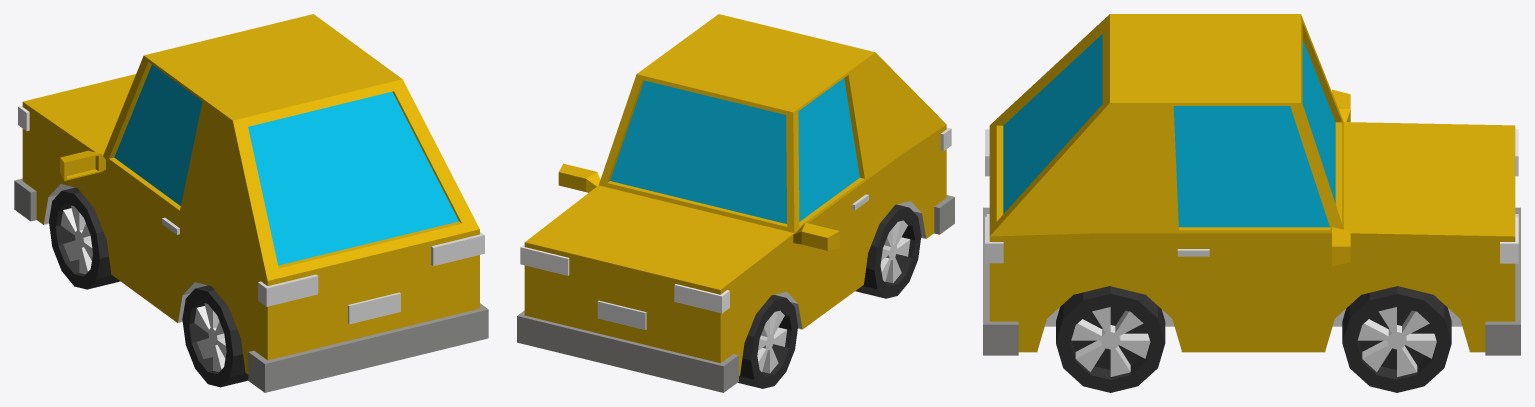
File: carros amarelo.fbx
The picture shows the model from 3 angles, left to right: view 1: azimuth 30°, elevation 25°; view 2: azimuth 150°, elevation 25°; view 3: azimuth 270°, elevation 25°; orthographic projection. The views are drawn at different scales.
Visible parts, largest first — view 1: carro.001, lataria t.001, Cilindro.011, Cilindro.003, lantern 1 T.001, lanterna 2 t.001, placa 2.001, lanterna 2 f.005, lataria f.001; view 2: carro.001, lataria f.001, Cilindro.011, Cilindro.003, lanterna 2 f.001, lanterna 2 f.005, placa 1.001, lataria t.001; view 3: carro.001, Cilindro.003, Cilindro.011, lataria t.001, lataria f.001, lanterna 2 f.005, lanterna 2 f.001, lanterna 2 t.001.
Boxes of the visible parts, x1,y1,x2,y2 form: carro.001: [22, 14, 479, 374]; lataria t.001: [248, 303, 488, 392]; Cilindro.011: [182, 285, 248, 387]; Cilindro.003: [49, 187, 120, 289]; lantern 1 T.001: [258, 274, 318, 306]; lanterna 2 t.001: [431, 232, 484, 266]; placa 2.001: [348, 292, 400, 324]; lanterna 2 f.005: [60, 150, 105, 180]; lataria f.001: [14, 178, 36, 221]; carro.001: [524, 14, 946, 375]; lataria f.001: [517, 310, 738, 392]; Cilindro.011: [855, 204, 921, 298]; Cilindro.003: [738, 295, 797, 388]; lanterna 2 f.001: [520, 244, 729, 313]; lanterna 2 f.005: [558, 163, 839, 250]; placa 1.001: [597, 300, 646, 329]; lataria t.001: [934, 195, 954, 234]; carro.001: [989, 14, 1515, 352]; Cilindro.003: [1342, 286, 1451, 392]; Cilindro.011: [1056, 286, 1165, 392]; lataria t.001: [983, 207, 1018, 355]; lataria f.001: [1485, 207, 1520, 355]; lanterna 2 f.005: [1332, 89, 1350, 266]; lanterna 2 f.001: [1500, 129, 1518, 263]; lanterna 2 t.001: [985, 216, 1003, 263].
Size of the model in its own units: 282 by 232 by 409.
